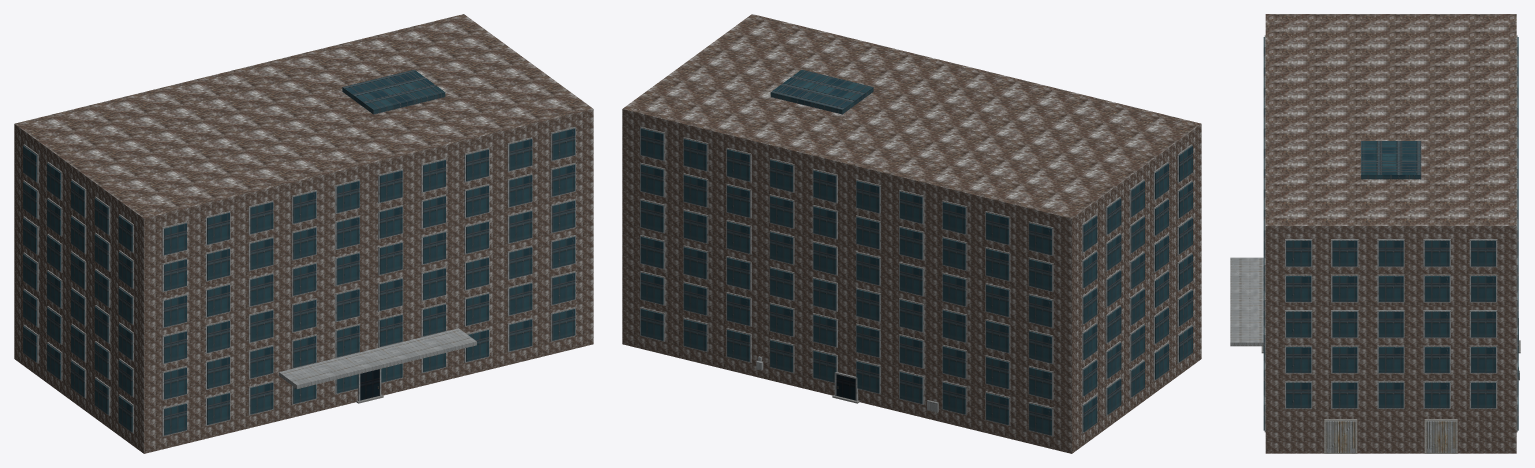
File: modern-loft-office_lod0.gltf
The picture shows the model from 3 angles, left to right: view 1: azimuth 30°, elevation 25°; view 2: azimuth 150°, elevation 25°; view 3: azimuth 270°, elevation 25°; orthographic projection. The views are drawn at different scales.
Parts seen in each view (by area): view 1: modern-loft-office_main, modern-loft-office_fen_07-glass-curtain-blue_1, modern-loft-office_fen_14-steel-panel_0, modern-loft-office__canopy, modern-loft-office__skylights; view 2: modern-loft-office_main, modern-loft-office_fen_07-glass-curtain-blue_1, modern-loft-office_fen_14-steel-panel_0, modern-loft-office__skylights; view 3: modern-loft-office_main, modern-loft-office_fen_07-glass-curtain-blue_1, modern-loft-office_fen_14-steel-panel_0, modern-loft-office__canopy, modern-loft-office__skylights, modern-loft-office_fen_21-corrugated-steel_6, modern-loft-office_fen_15-concrete-boardformed_5.
Part boxes in pixels (x1,y1,x2,y2): modern-loft-office_main: (14, 14, 593, 453); modern-loft-office_fen_07-glass-curtain-blue_1: (23, 128, 575, 435); modern-loft-office_fen_14-steel-panel_0: (23, 126, 575, 436); modern-loft-office__canopy: (279, 328, 476, 388); modern-loft-office__skylights: (342, 69, 445, 114); modern-loft-office_main: (622, 14, 1201, 453); modern-loft-office_fen_07-glass-curtain-blue_1: (640, 128, 1192, 435); modern-loft-office_fen_14-steel-panel_0: (640, 126, 1192, 436); modern-loft-office__skylights: (770, 69, 873, 114); modern-loft-office_main: (1265, 14, 1516, 453); modern-loft-office_fen_07-glass-curtain-blue_1: (1263, 37, 1518, 430); modern-loft-office_fen_14-steel-panel_0: (1263, 35, 1519, 453); modern-loft-office__canopy: (1230, 257, 1263, 346); modern-loft-office__skylights: (1361, 141, 1421, 179); modern-loft-office_fen_21-corrugated-steel_6: (1325, 420, 1456, 452); modern-loft-office_fen_15-concrete-boardformed_5: (1324, 419, 1457, 453).
Size of the model in its own units: 50.43 by 25.52 by 28.9.
